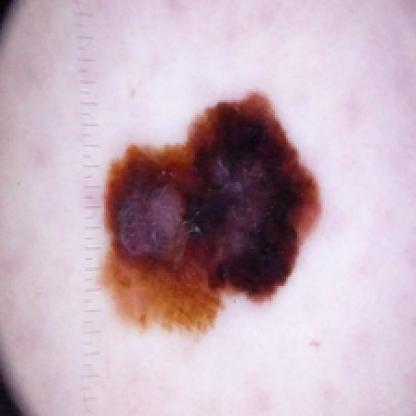Skin_Cancer-Malignant: (92, 89, 324, 345)
